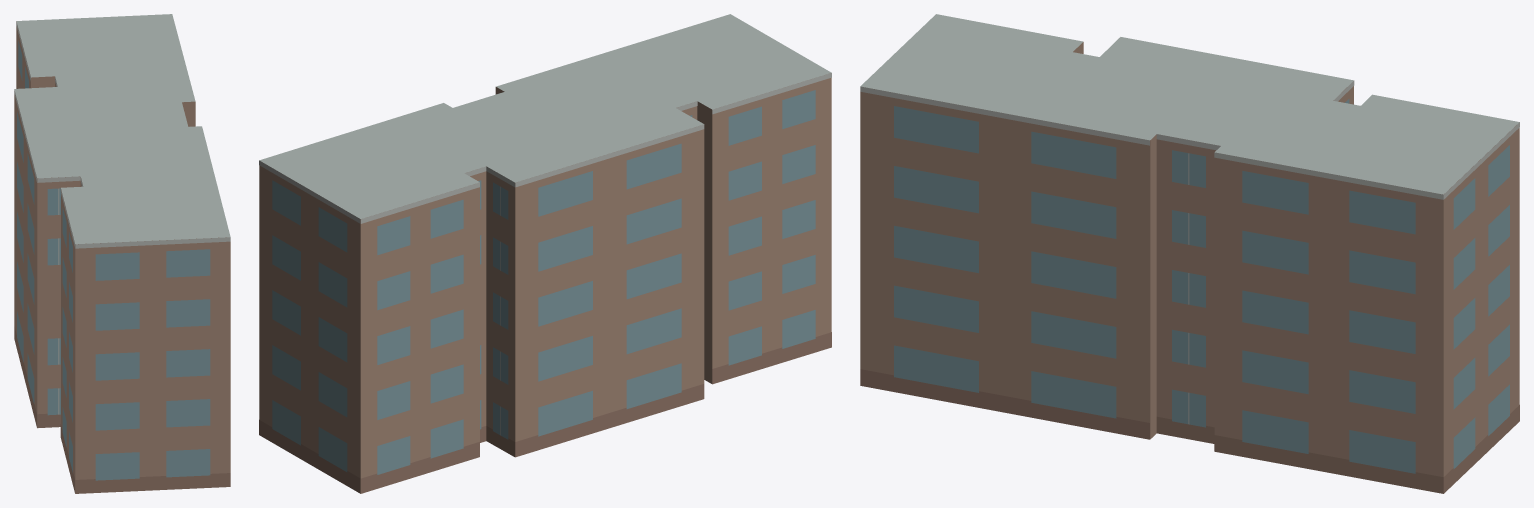
Rendered from survey-upis-32986993.glb.
3 views of the same model, side by side, from view 1: azimuth 30°, elevation 25°; view 2: azimuth 150°, elevation 25°; view 3: azimuth 270°, elevation 25° (orthographic). The views are drawn at different scales.
Visible parts, largest first — view 1: survey-upis-32986993.tmp; view 2: survey-upis-32986993.tmp; view 3: survey-upis-32986993.tmp.
Boxes of the visible parts, <box> form: survey-upis-32986993.tmp: <box>14,14,230,493</box>; survey-upis-32986993.tmp: <box>259,14,831,493</box>; survey-upis-32986993.tmp: <box>860,14,1519,493</box>.
Size of the model in its own units: 17.93 by 13.85 by 27.67.
